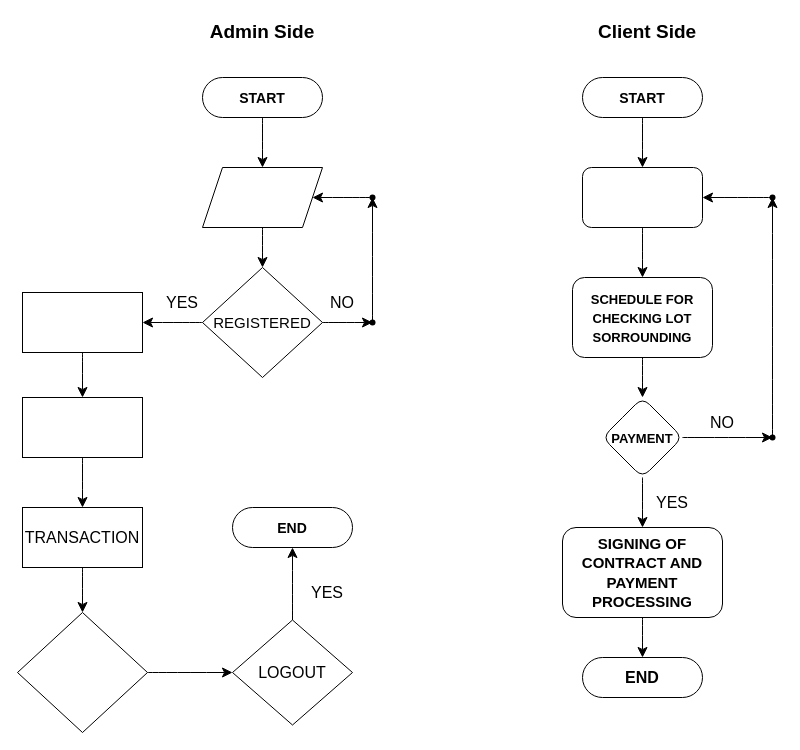
Some shapes in this 800 by 750 pixel diagram are drawn without their labels. The box of each missing label's shape, as (x1, y1, x2, y2) in pixels:
BACK TO DASHBOARD: (16, 612, 148, 732)
BROWSE AVAILABLE LOT: (582, 166, 702, 228)
DASHBOARD: (22, 292, 142, 352)
LOGIN: (202, 166, 322, 228)
REGISTRATION: (22, 396, 142, 458)
